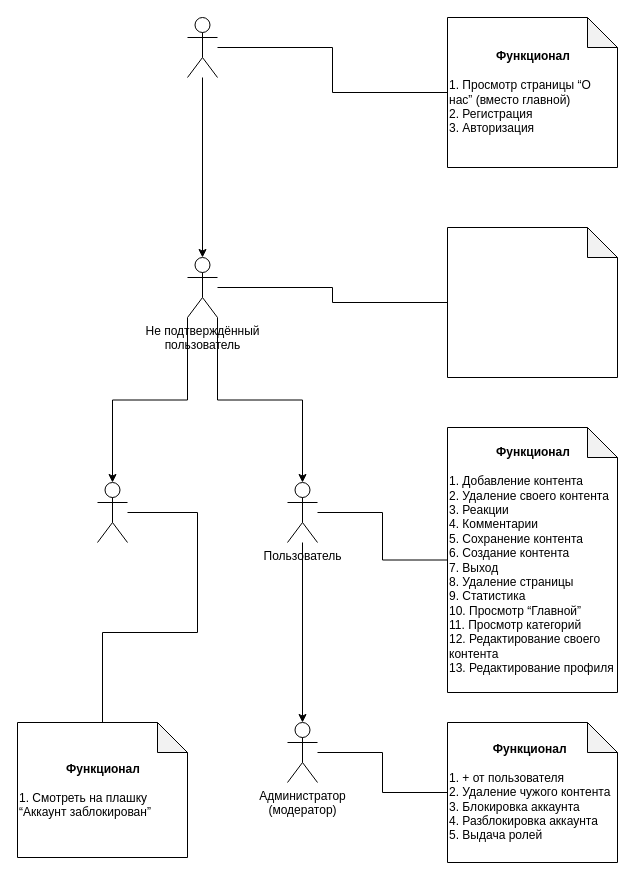
The diagram is 635 pixels wide and 880 high, and some of its shapes have lost their labels. Each missing label, with the centre of its shape:
"Заблокированный пользователь" belongs at point 112,512.
"Не авторизированный пользователь" belongs at point 202,47.
"Функционал 1. Просмотр контента других пользователей" belongs at point 532,302.
